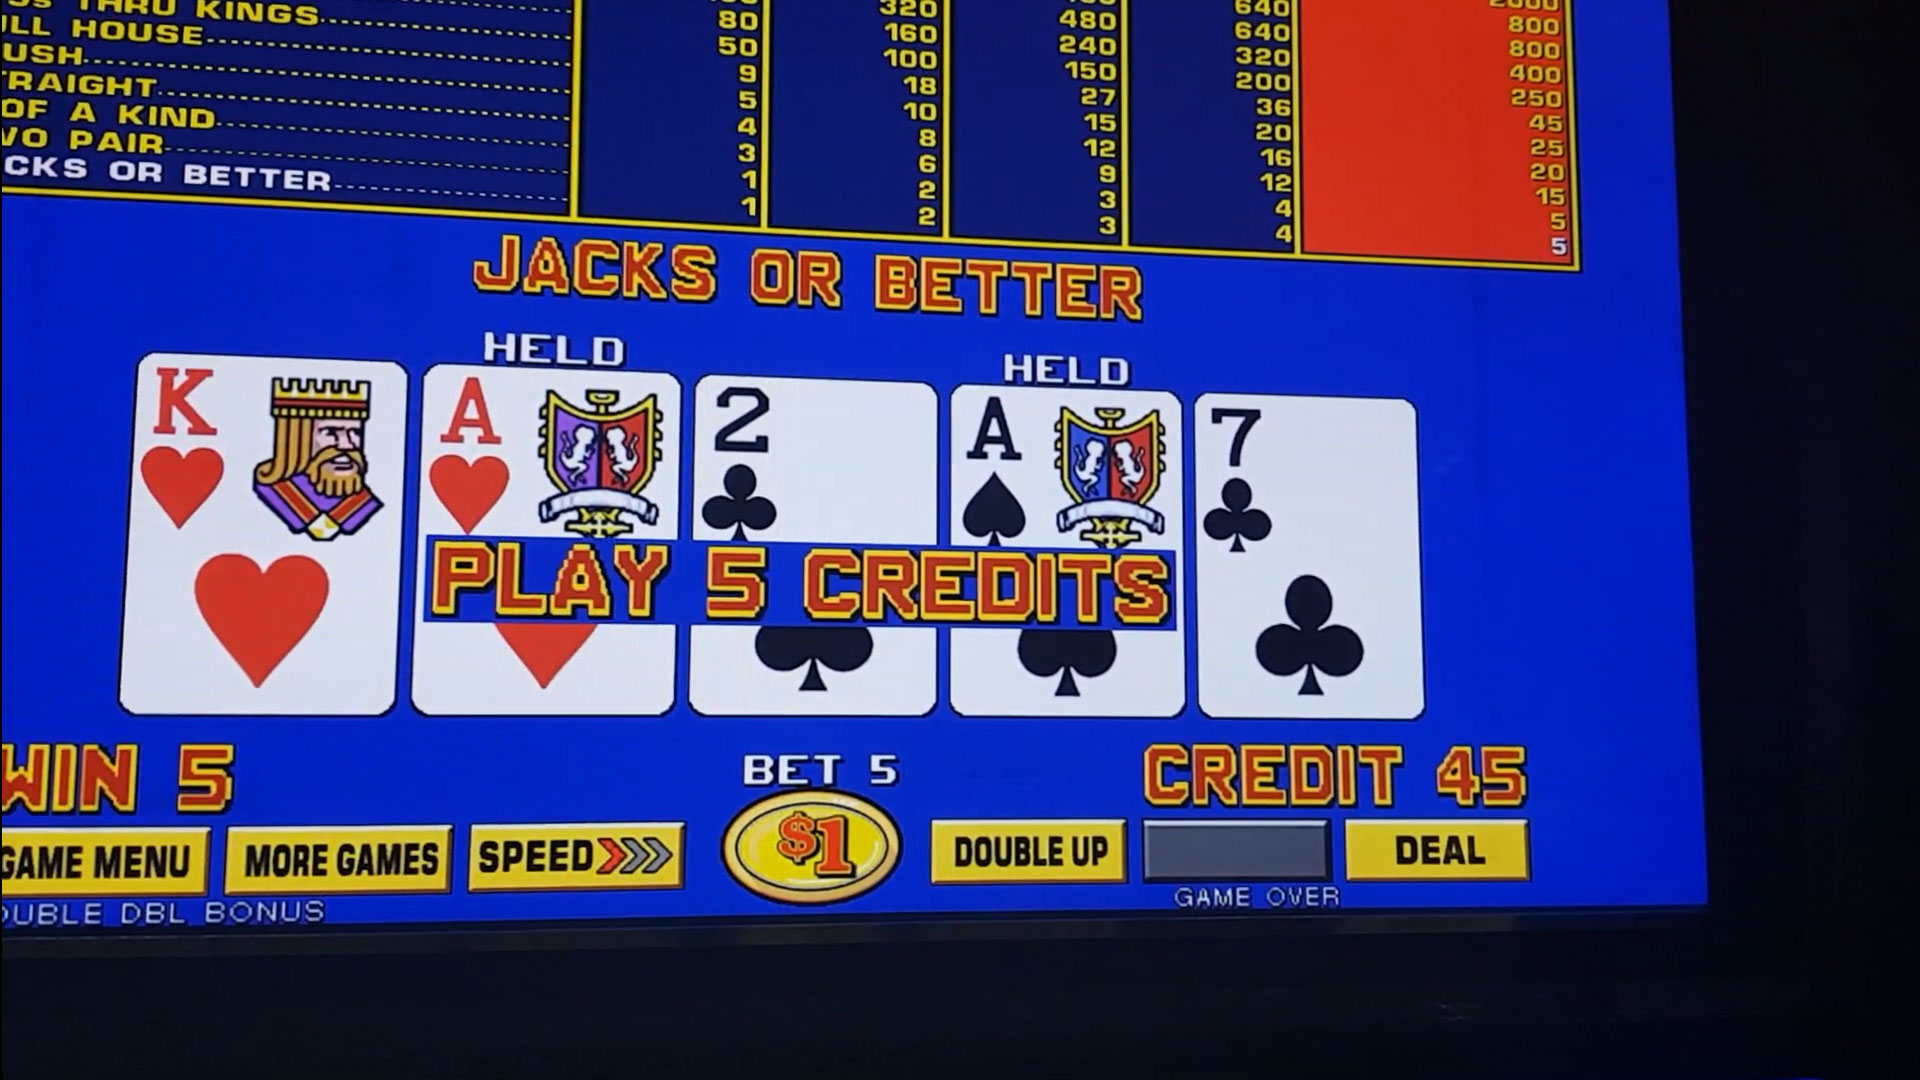C2: (698, 385, 928, 538)
C7: (1200, 404, 1410, 559)
HA: (431, 375, 667, 530)
HK: (132, 363, 401, 533)
SA: (953, 396, 1174, 554)
